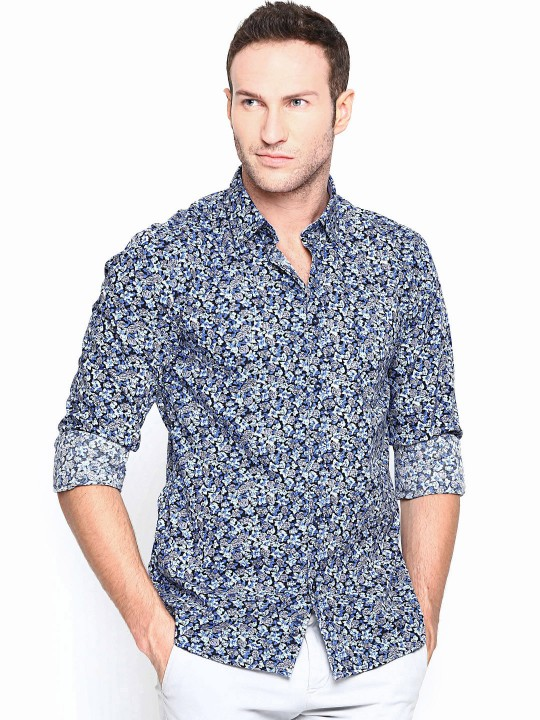Shirt: (46, 155, 520, 674)
